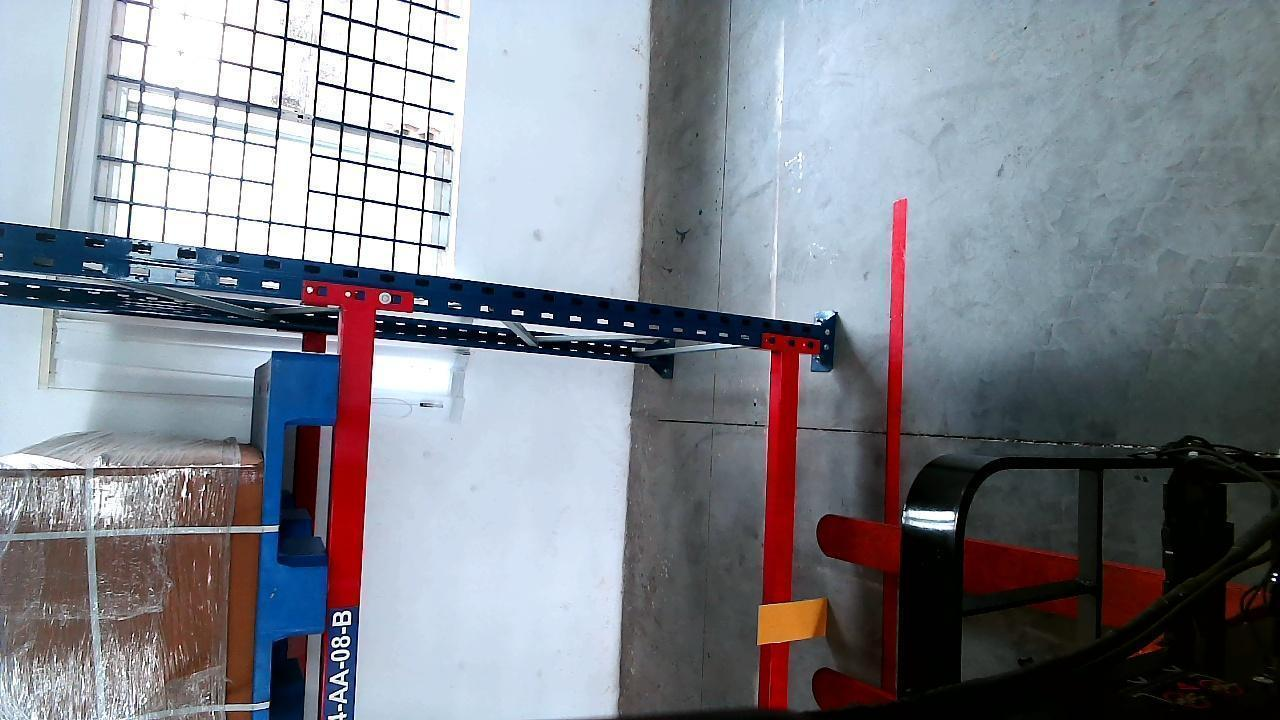red_line: (884, 193, 909, 514)
